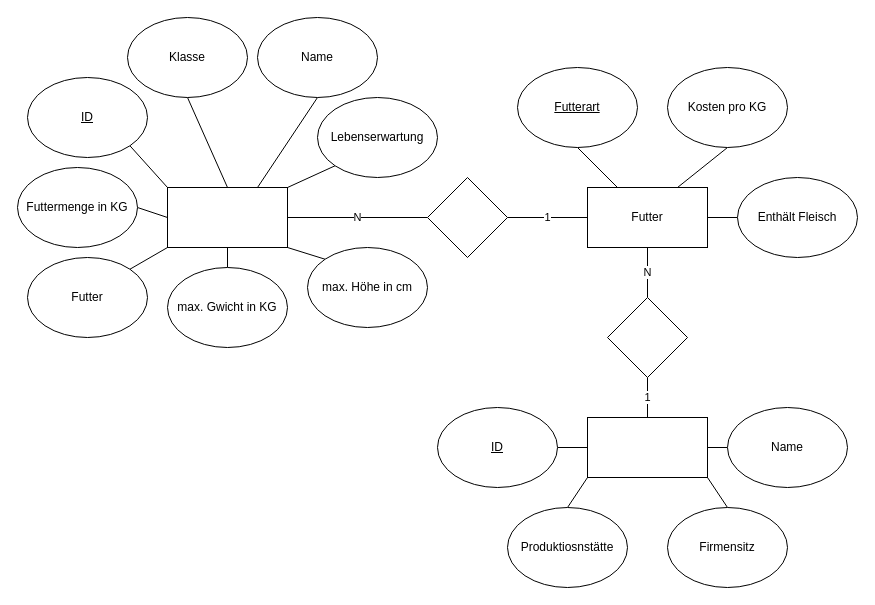
The diagram is 875 pixels wide and 605 high, and some of its shapes have lost their labels. Each missing label, with the centre of its shape:
frisst: the point at 467,217
Hersteller: the point at 647,447
stellt her: the point at 647,337
Tiere: the point at 227,217
